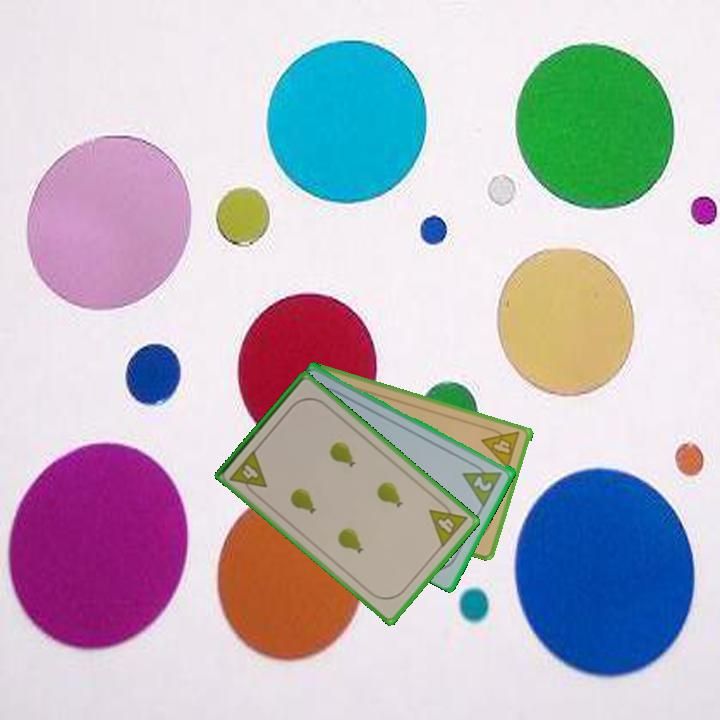2p: (459, 457, 505, 508)
4p: (425, 496, 470, 550), (226, 446, 270, 499), (479, 423, 523, 472)
